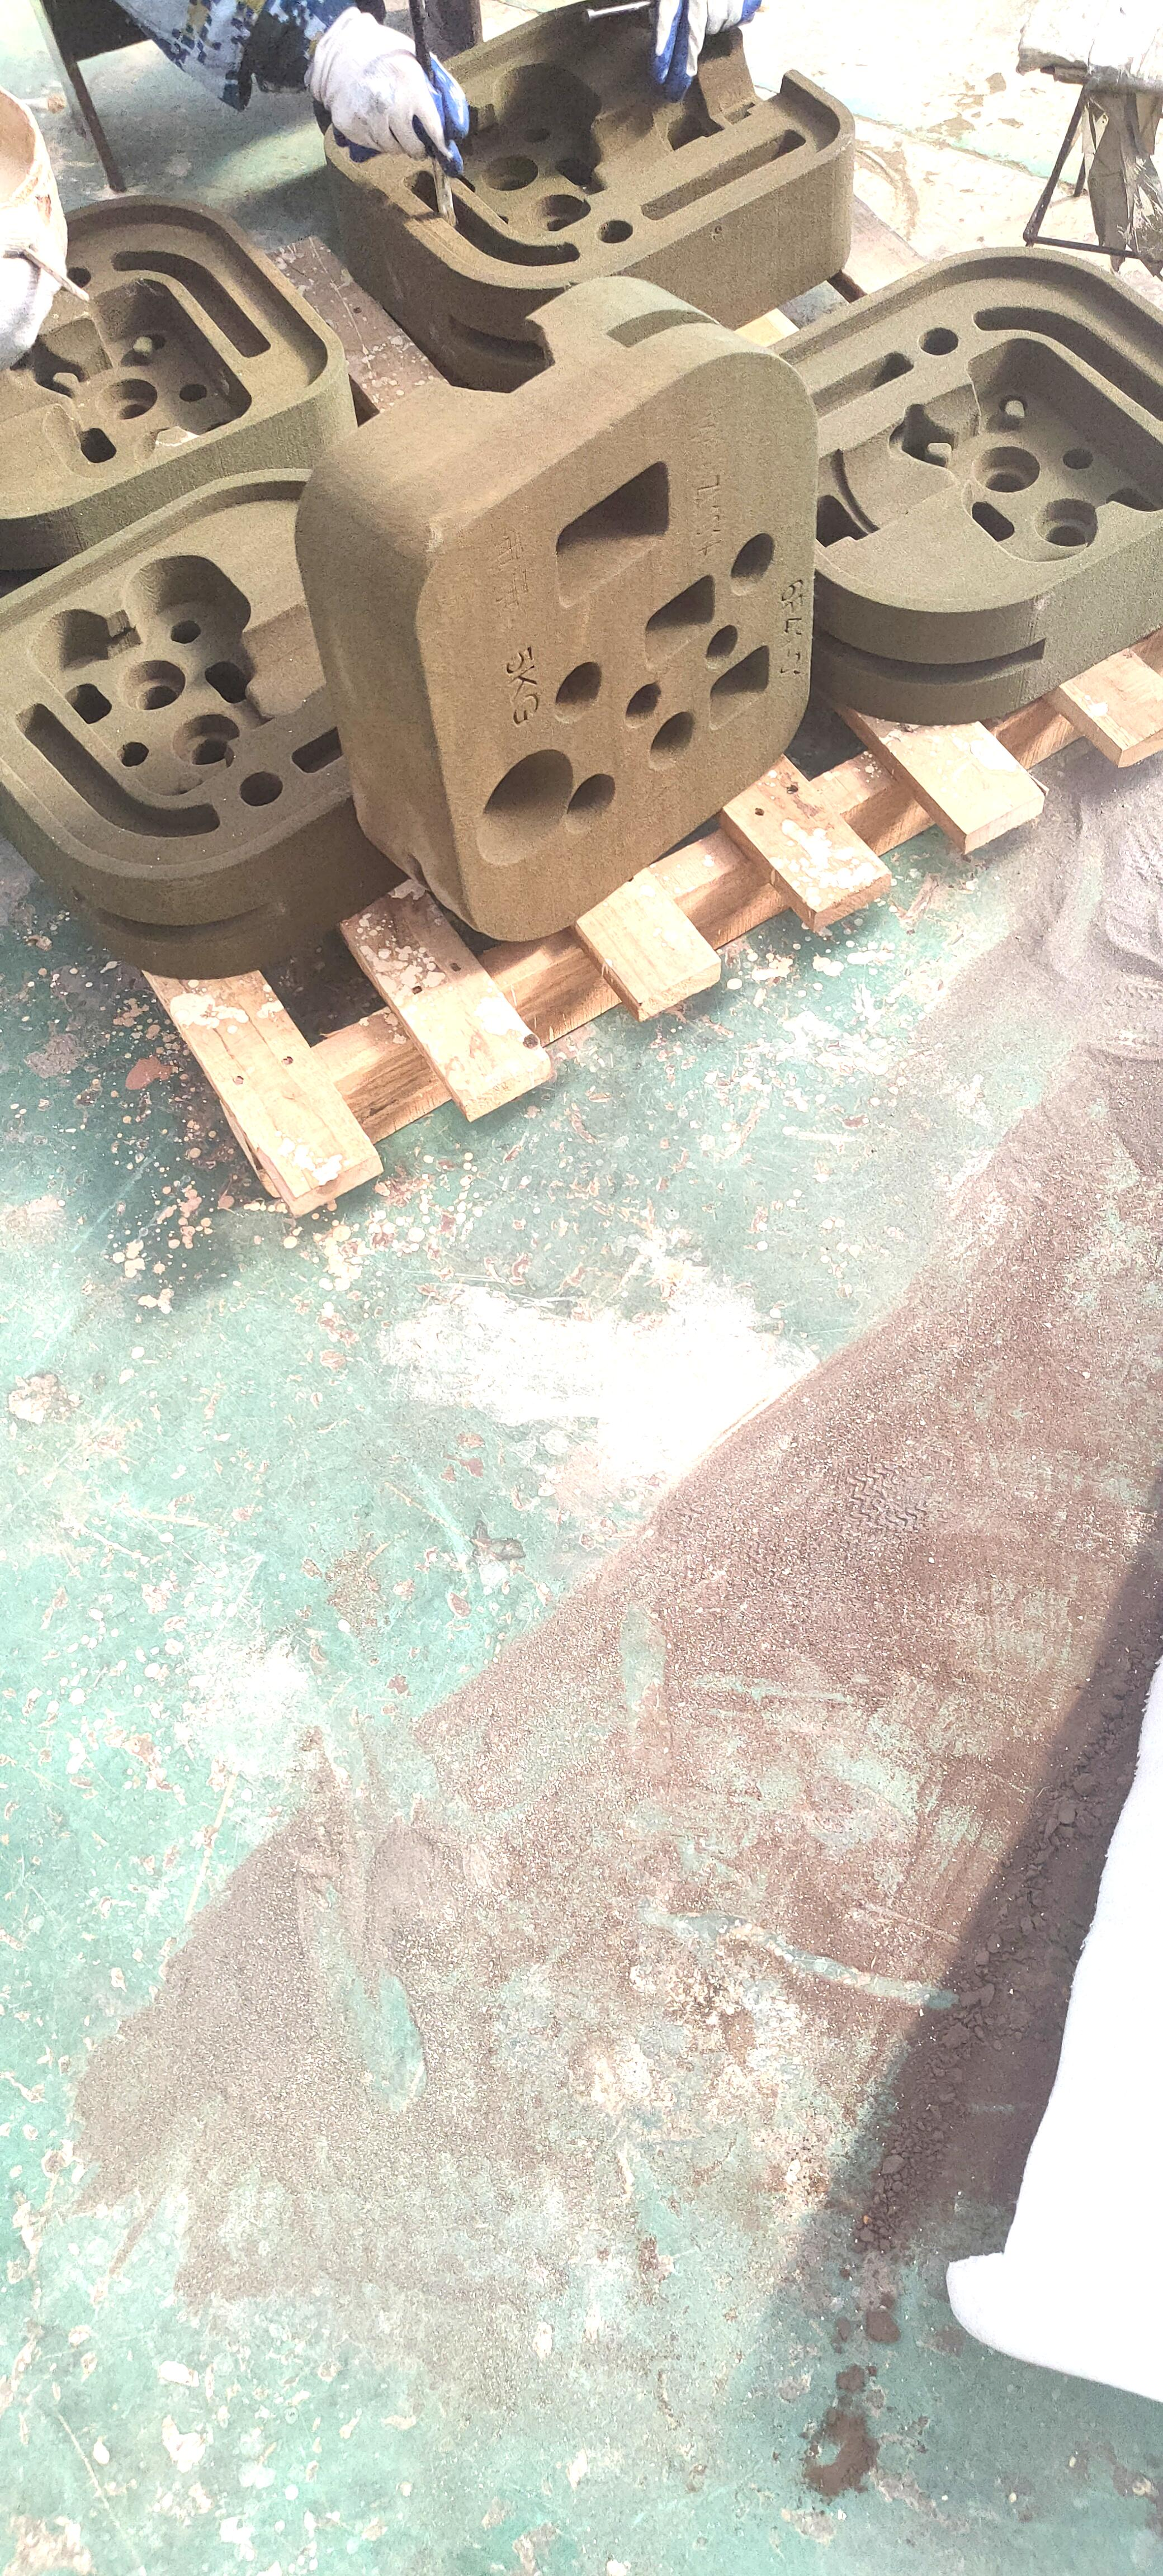pouring hole: (471, 744, 572, 864)
